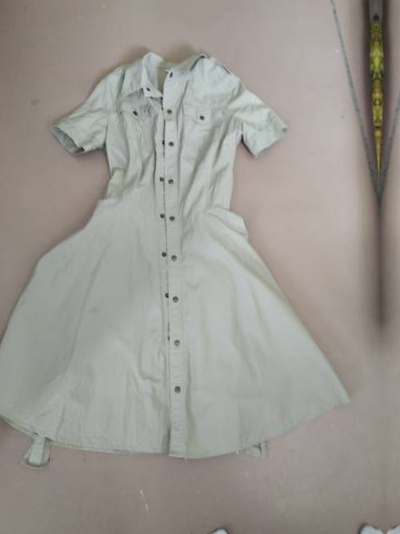Dress: (0, 31, 355, 492)
